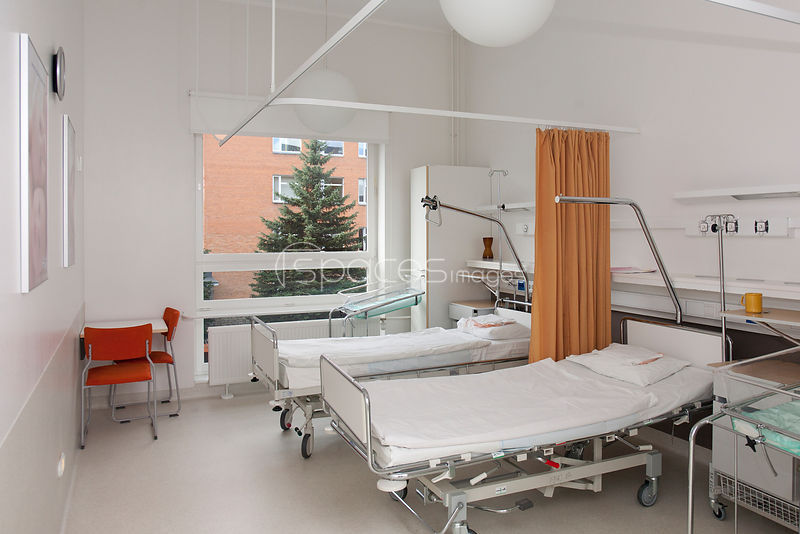hospital bed: (315, 328, 728, 481), (240, 295, 534, 401)
